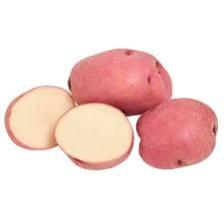Defected potato: (65, 48, 175, 118), (135, 97, 219, 171)
